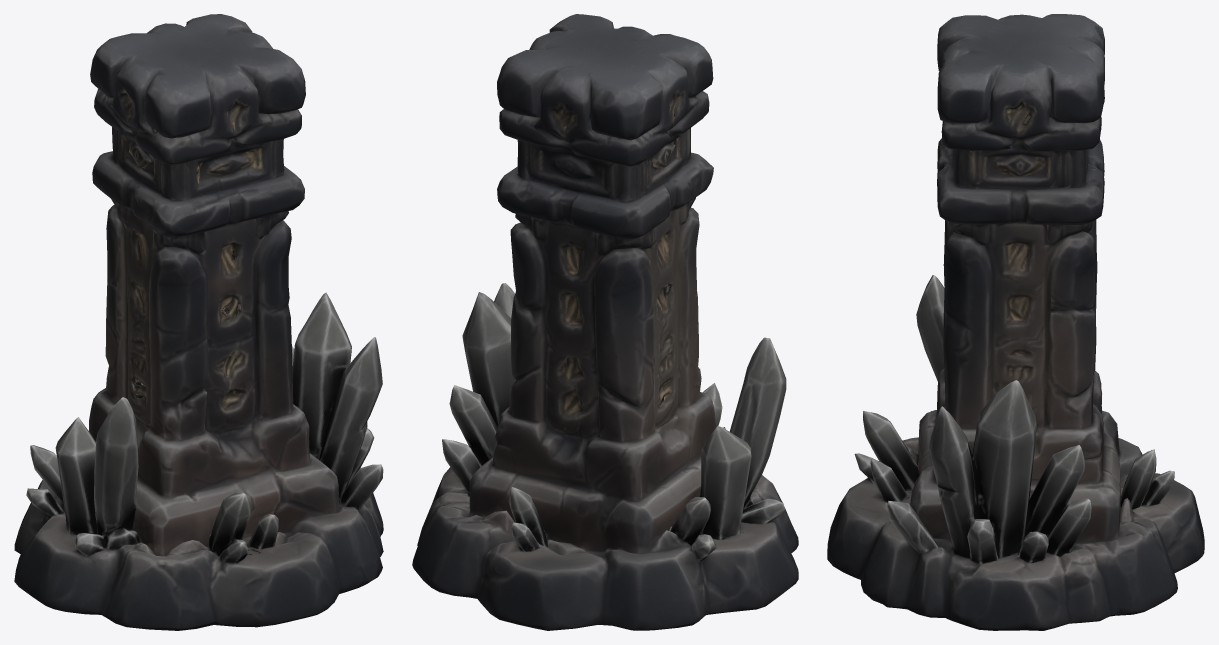
The model's file is env_volcano_obelisk.glb.
The picture shows the model from 3 angles, left to right: view 1: azimuth 30°, elevation 25°; view 2: azimuth 150°, elevation 25°; view 3: azimuth 270°, elevation 25°; orthographic projection.
Parts seen in each view (by area): view 1: world; view 2: world; view 3: world.
Part boxes in pixels (box(x1,y1,x2,y2)): world: box(14, 14, 383, 630); world: box(412, 14, 798, 630); world: box(827, 14, 1204, 630).
Bounding box in the file's own units: 0.7034 × 1 × 0.6743.
Materials: 1 (1 with a texture image).
